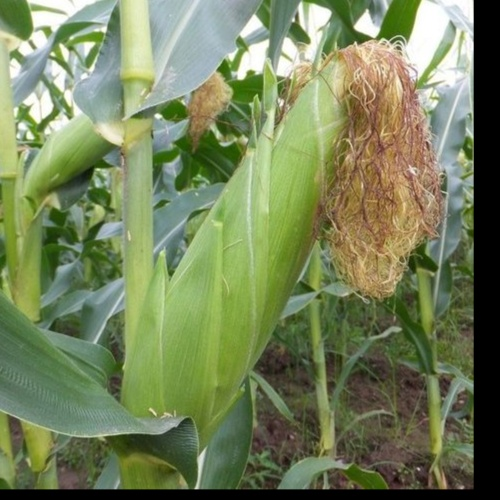corn_plant: (111, 26, 427, 457)
